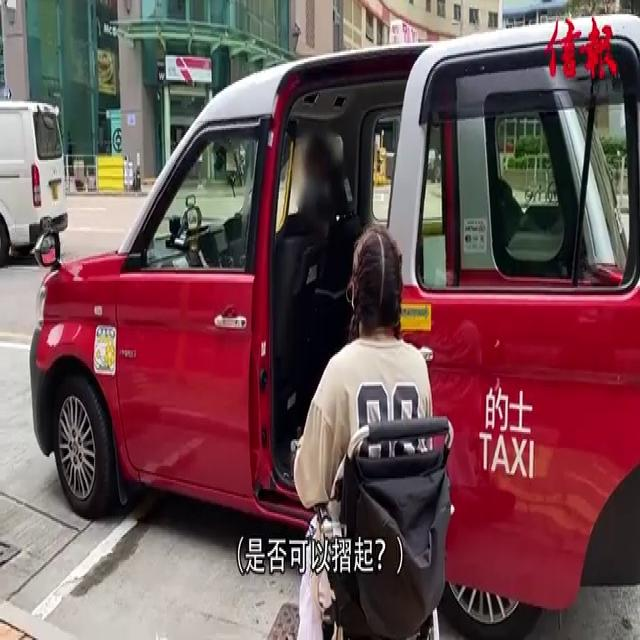wheelchairs: (285, 410, 466, 640)
